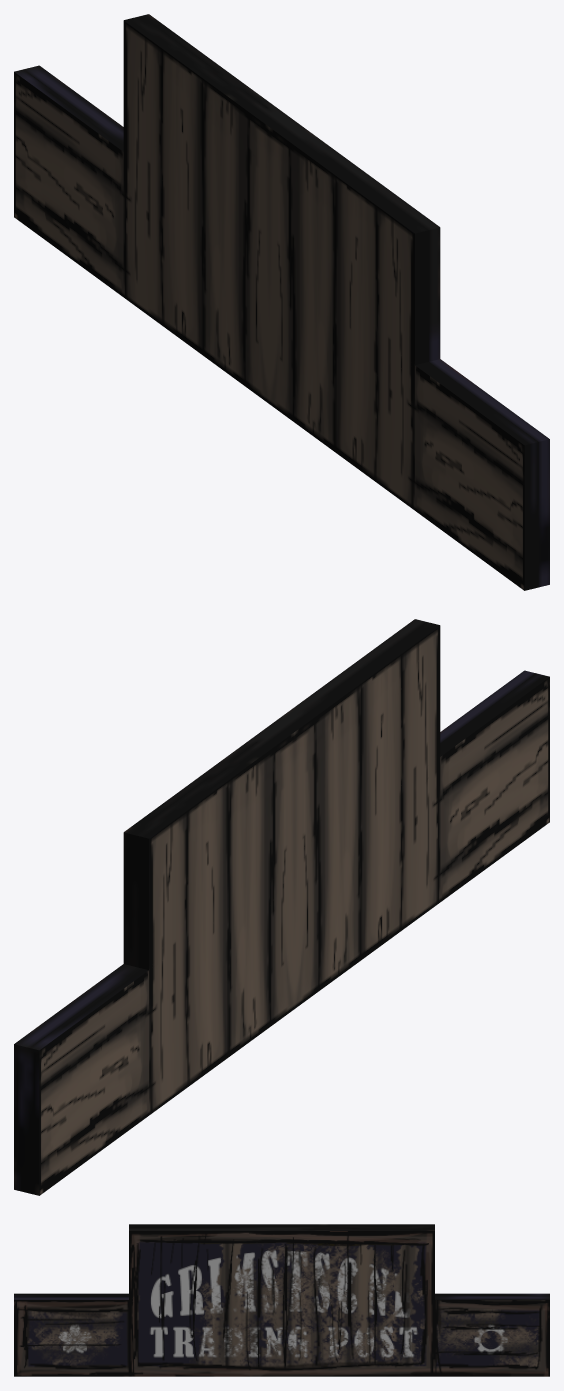
Rendered from Sign_GeneralStore_FrontFlat.fbx.
3 views of the same model, one above another, from view 1: azimuth 30°, elevation 25°; view 2: azimuth 150°, elevation 25°; view 3: azimuth 270°, elevation 25° (orthographic). The views are drawn at different scales.
Parts seen in each view (by area): view 1: pCube579; view 2: pCube579; view 3: pCube579.
Boxes of the visible parts, x1=… form: pCube579: x1=14, y1=14, x2=549, y2=590; pCube579: x1=14, y1=619, x2=549, y2=1195; pCube579: x1=14, y1=1224, x2=549, y2=1376.
Bounding box in the file's own units: 0.5009 × 5.21 × 17.4.
